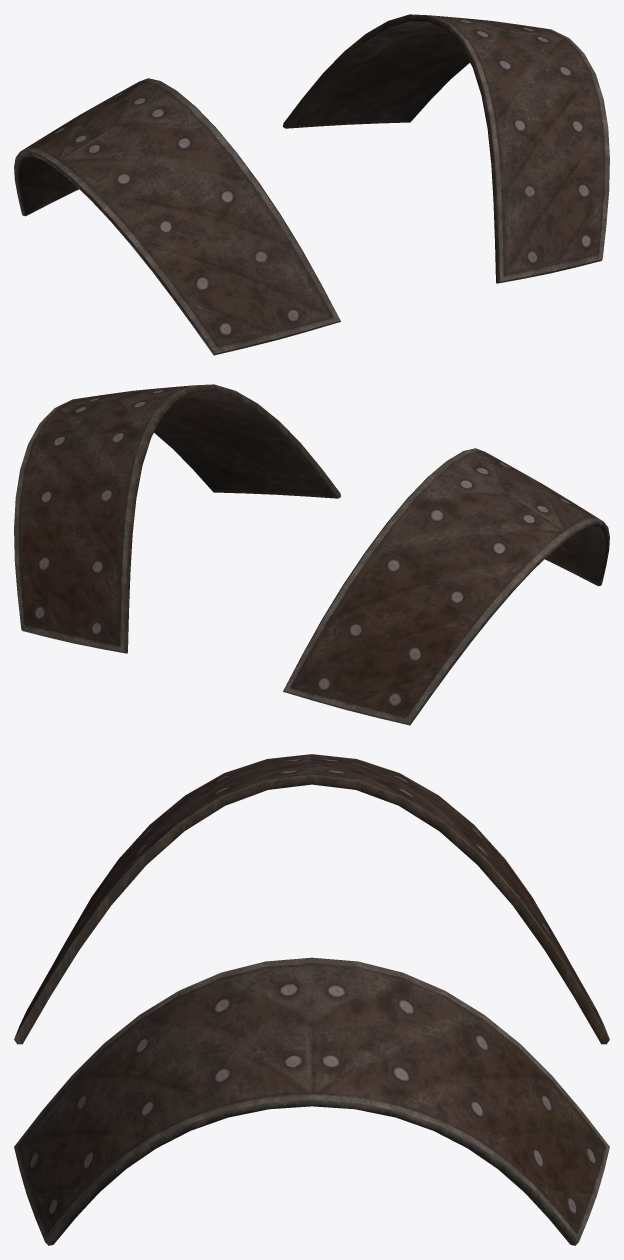
Rendered from sk_dwarf_iron_pauldron_light_a.fbx.
3 renders of one model, top to bottom at view 1: azimuth 30°, elevation 25°; view 2: azimuth 150°, elevation 25°; view 3: azimuth 270°, elevation 25°, orthographic. The views are drawn at different scales.
Parts seen in each view (by area): view 1: sk_dwarf_iron_pauldron_light_a; view 2: sk_dwarf_iron_pauldron_light_a; view 3: sk_dwarf_iron_pauldron_light_a.
Part boxes in pixels (x1,y1,x2,y2): sk_dwarf_iron_pauldron_light_a: (14,14,609,355); sk_dwarf_iron_pauldron_light_a: (14,384,609,725); sk_dwarf_iron_pauldron_light_a: (14,754,609,1245).
Size of the model in its own units: 0.4863 by 0.3537 by 0.1633.
1 material, 1 textured.
